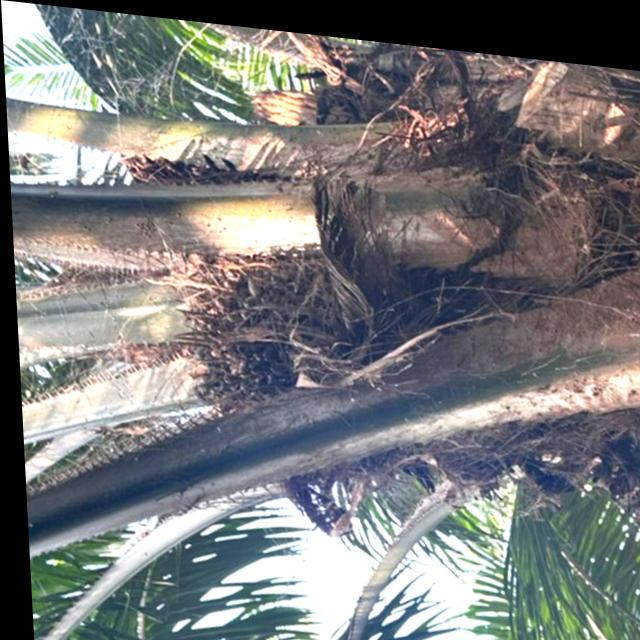unripe: (157, 219, 387, 445)
